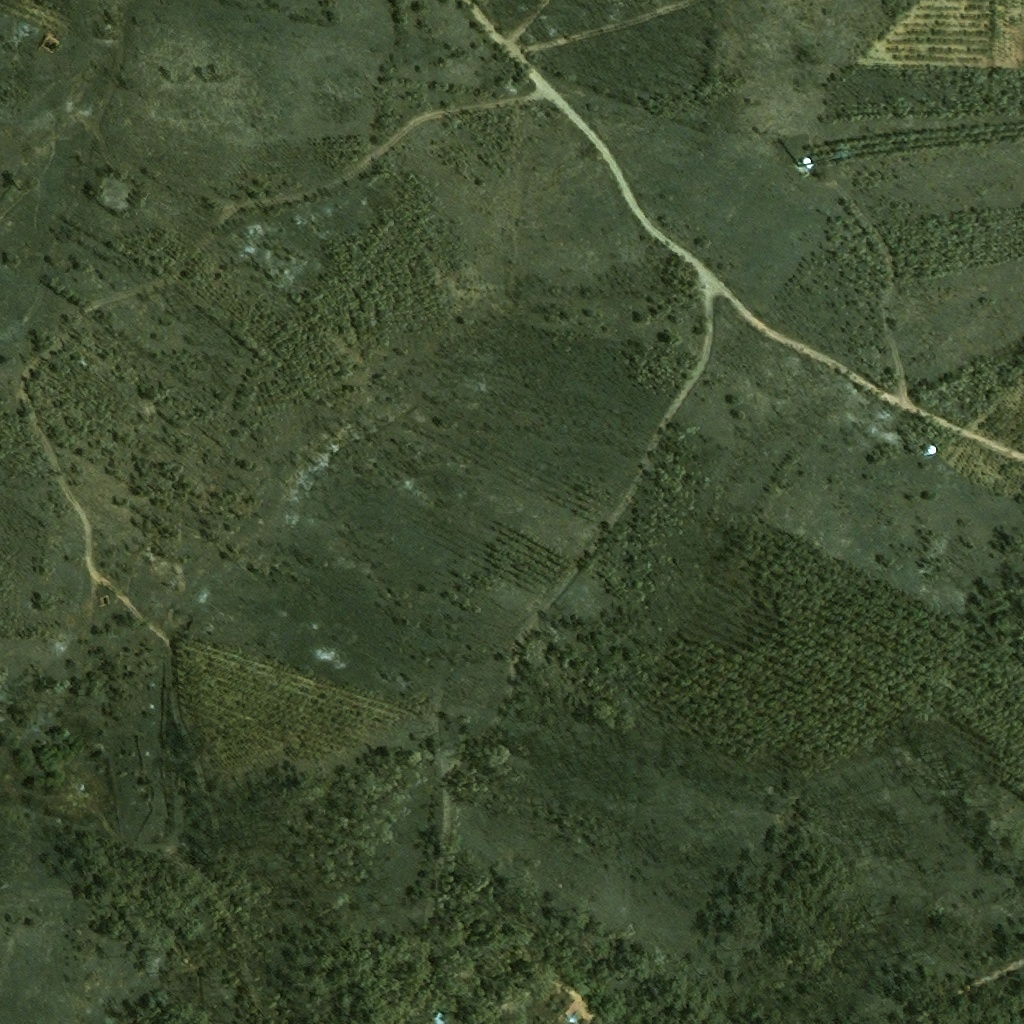0 no-damage: (560, 999, 580, 1023), (431, 1009, 446, 1023), (801, 156, 815, 170), (924, 444, 937, 455)
